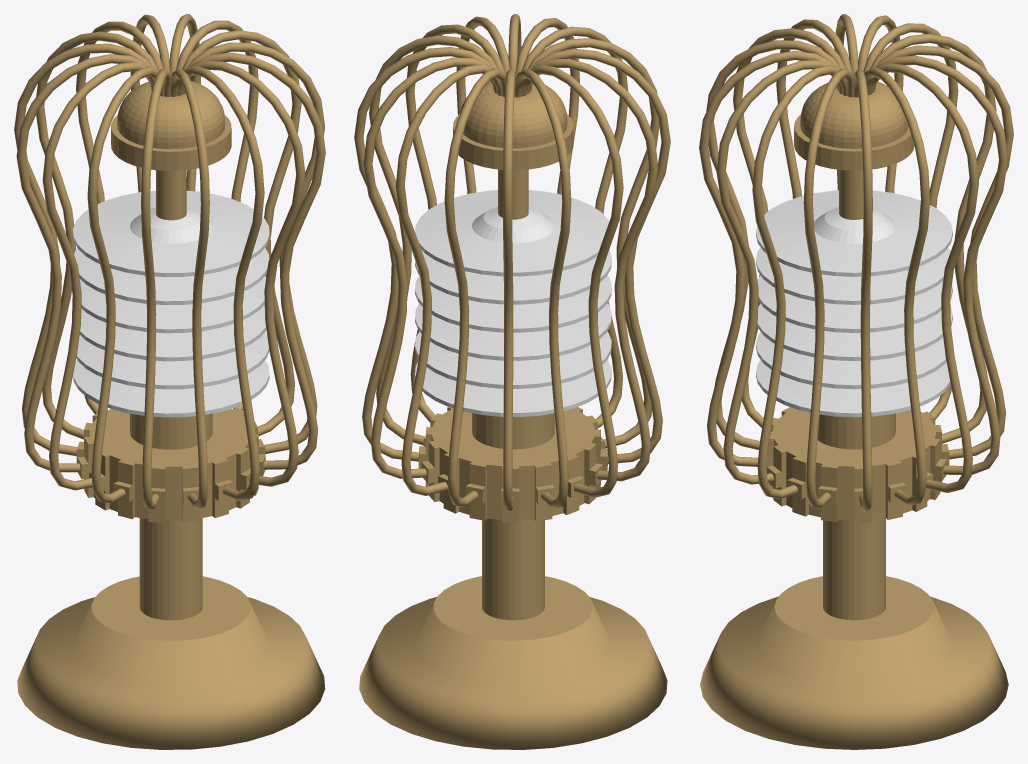
File: Lampe-Steam.fbx
3 renders of one model, left to right at view 1: azimuth 30°, elevation 25°; view 2: azimuth 150°, elevation 25°; view 3: azimuth 270°, elevation 25°, orthographic.
Parts seen in each view (by area): view 1: Lampe-Steam; view 2: Lampe-Steam; view 3: Lampe-Steam.
Boxes of the visible parts, <box> form: Lampe-Steam: <box>14,14,325,749</box>; Lampe-Steam: <box>354,14,670,749</box>; Lampe-Steam: <box>699,14,1013,749</box>.
Size of the model in its own units: 20767 by 46266 by 20761.
